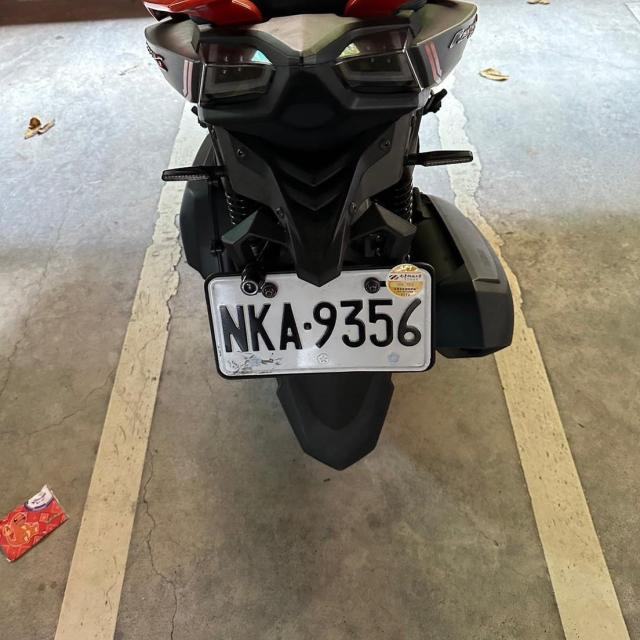W: (200, 259, 438, 381)
